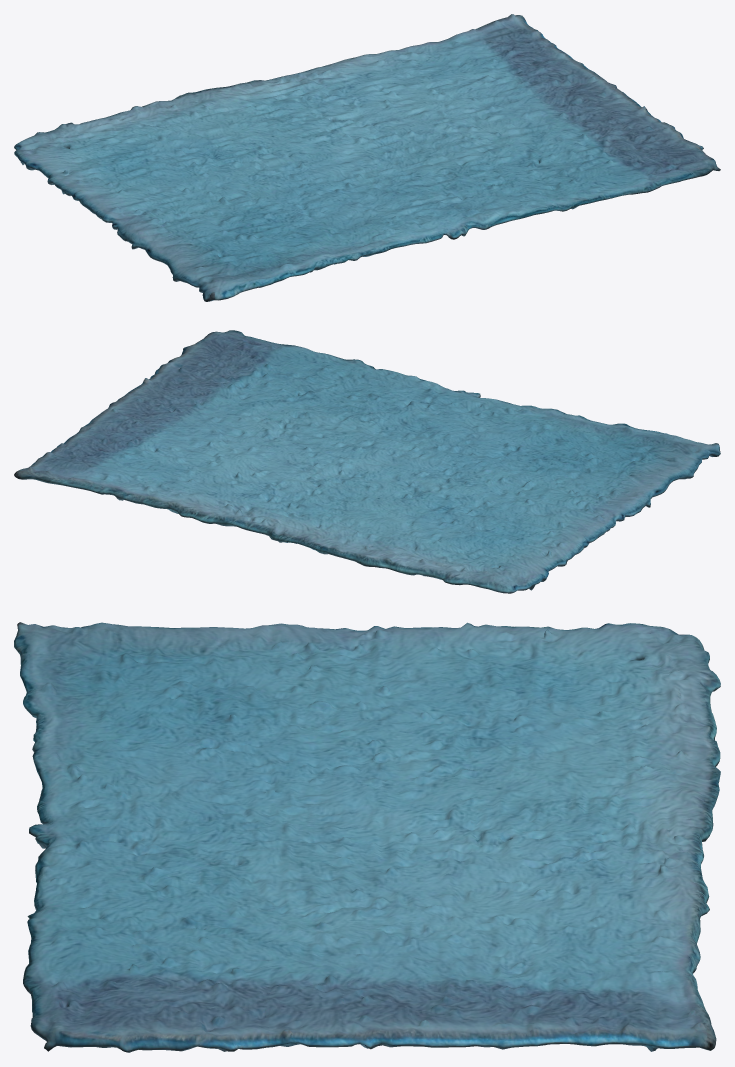
File: Blue_Shag_Rug_0904171810.fbx
3 renders of one model, top to bottom at view 1: azimuth 30°, elevation 25°; view 2: azimuth 150°, elevation 25°; view 3: azimuth 270°, elevation 25°, orthographic. The views are drawn at different scales.
Visible parts, largest first — view 1: Mesh_0; view 2: Mesh_0; view 3: Mesh_0.
Boxes of the visible parts, x1=… form: Mesh_0: x1=14, y1=14, x2=720, y2=301; Mesh_0: x1=14, y1=330, x2=720, y2=593; Mesh_0: x1=14, y1=622, x2=720, y2=1052.
Size of the model in its own units: 198 by 6.52 by 139.
1 material, 1 textured.
